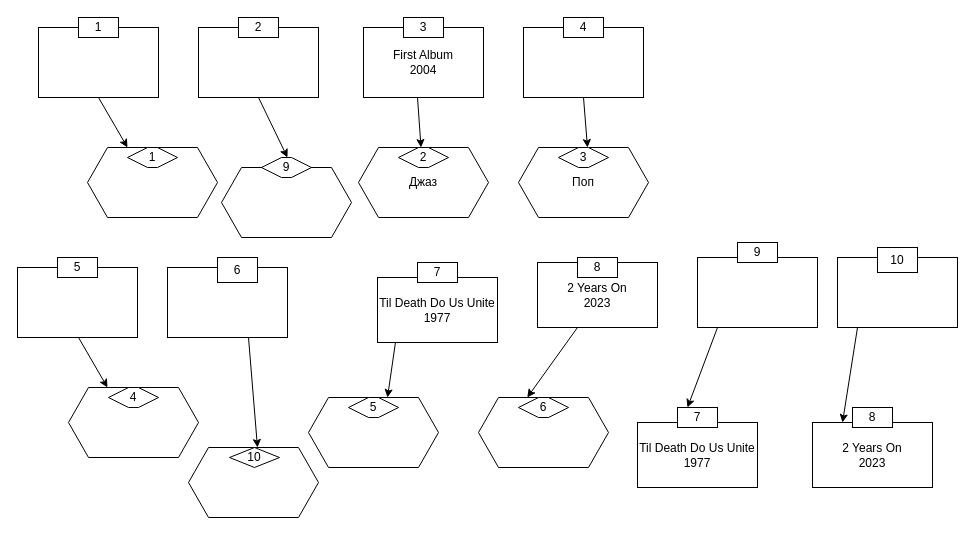
Image size: 975x535. Some labels were removed from this diagram. The box of each missing label's shape, as (x1, y1, x2, y2) in pixels:
15 Big Ones 1989: (696, 256, 818, 328)
2XS 2011: (166, 266, 288, 338)
7 Days of Funk 2020: (836, 256, 958, 328)
7 Sinners 1965: (522, 26, 644, 98)
8 Days of Christmas 2005: (16, 266, 138, 338)
Greatest Hits 1987: (38, 26, 158, 98)
Live Concert 2000: (198, 26, 318, 98)
Блюз: (68, 386, 198, 458)
Диско: (188, 446, 318, 518)
Рок: (86, 146, 218, 218)
Фанк: (220, 166, 352, 238)
Фолк-музыка: (478, 396, 608, 468)
Шансон: (308, 396, 438, 468)
